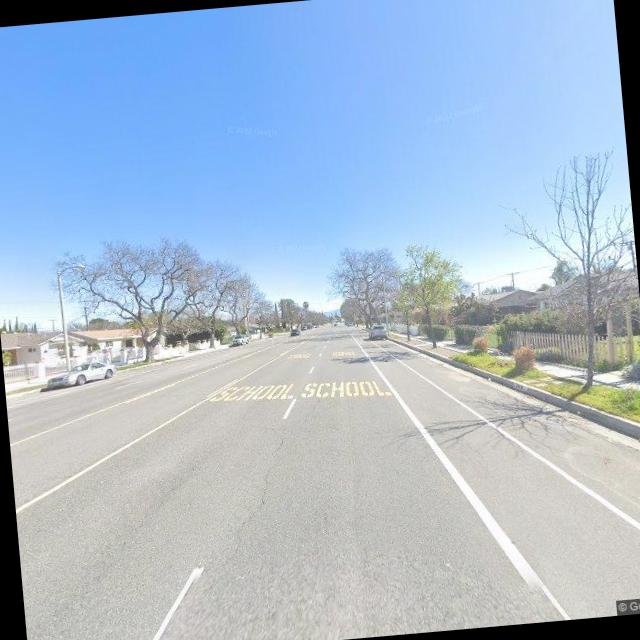pothole: (190, 403, 316, 573)
